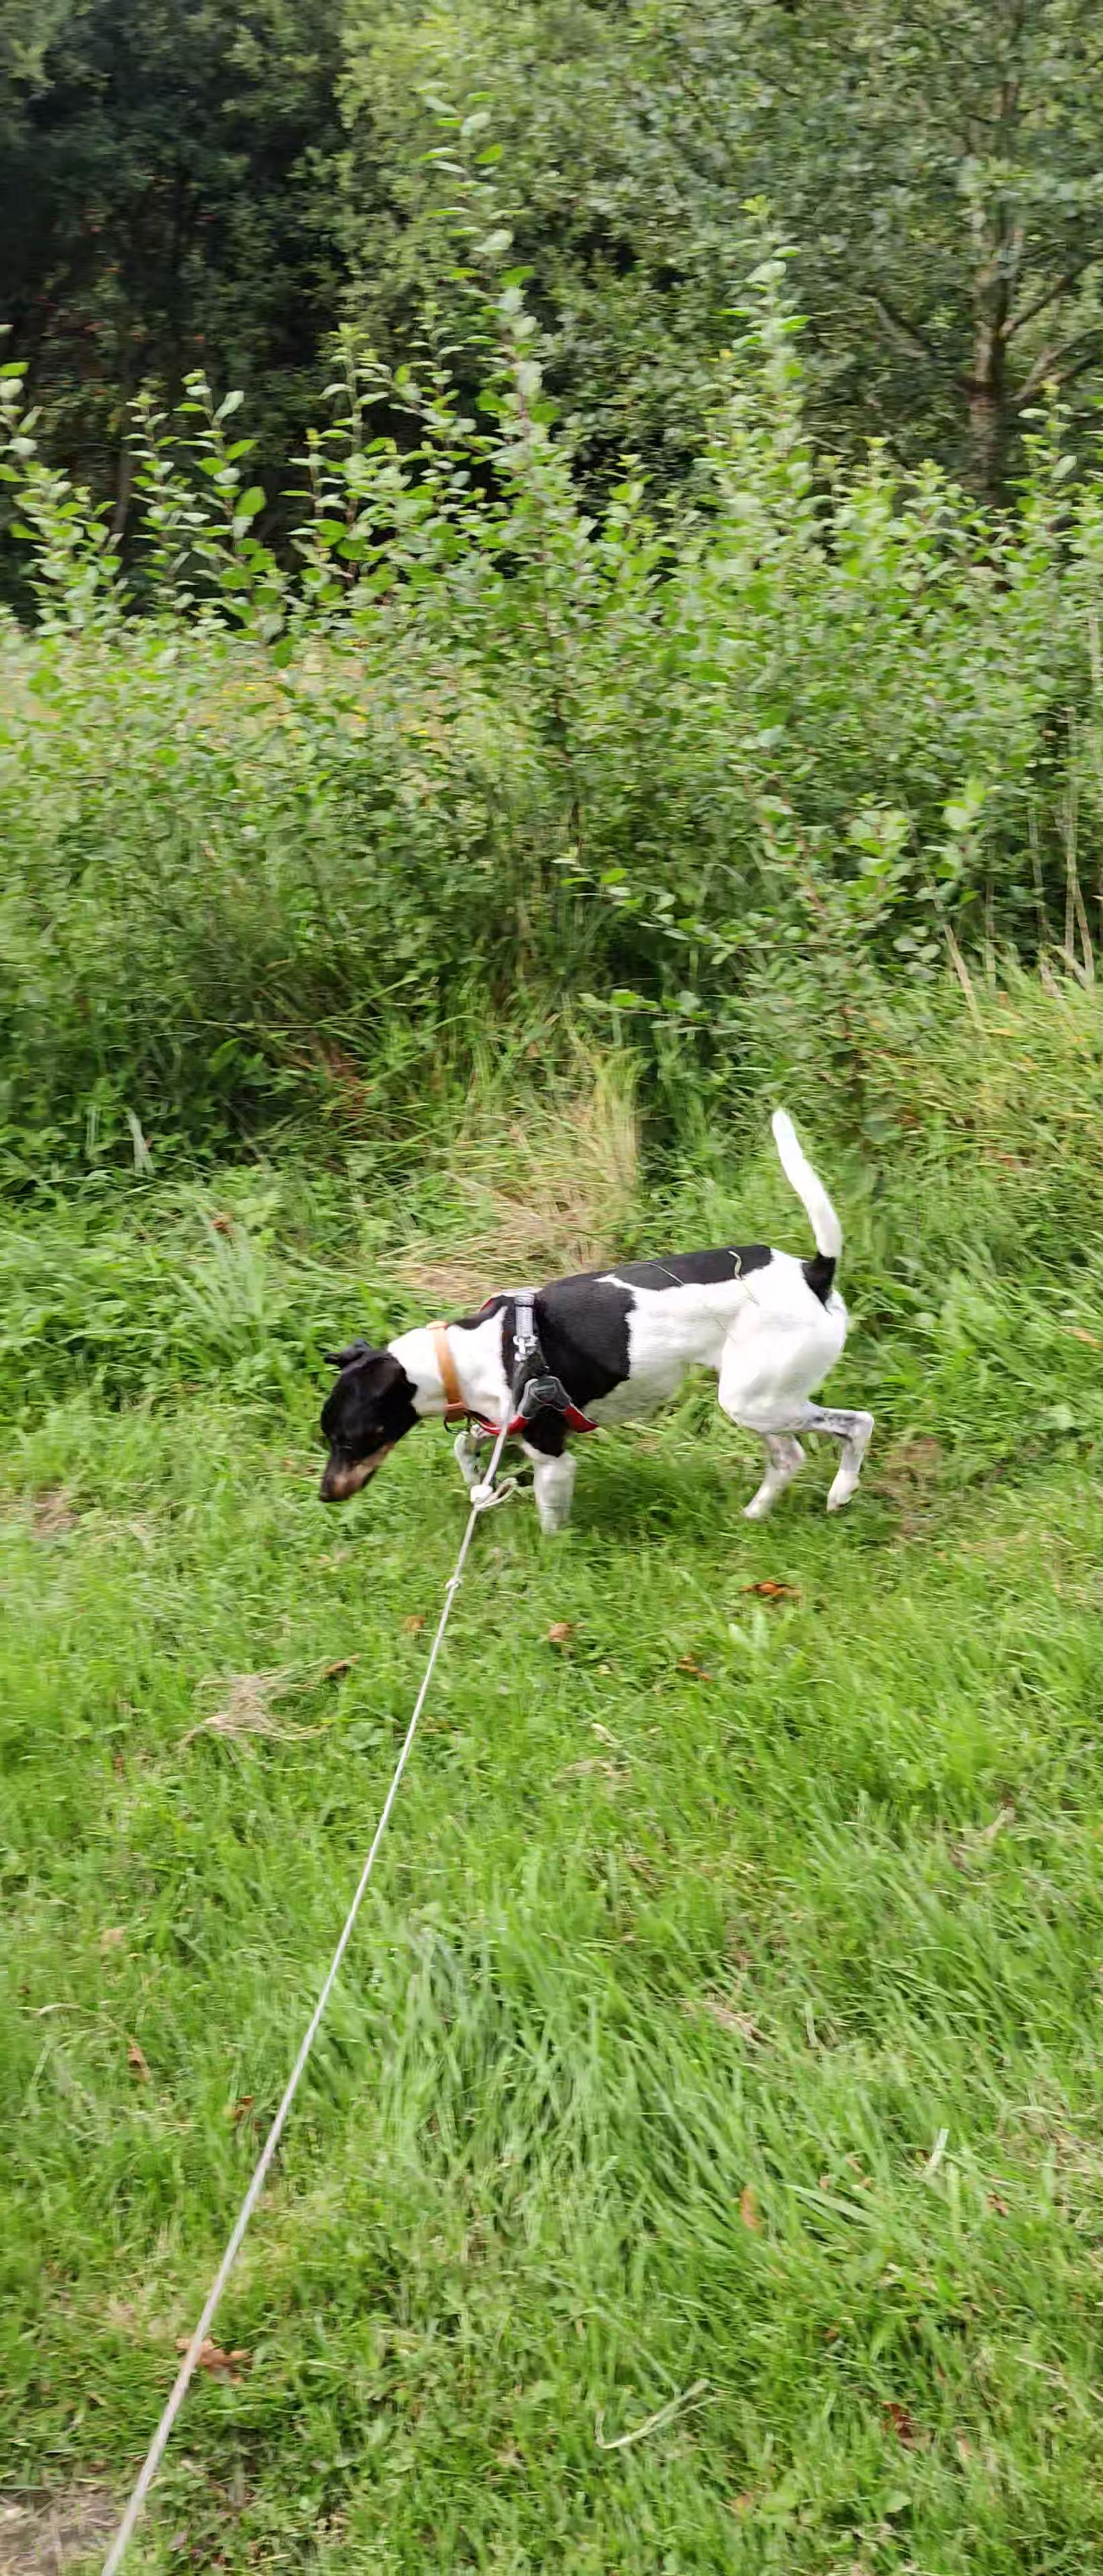Dog: (307, 1102, 883, 1538)
